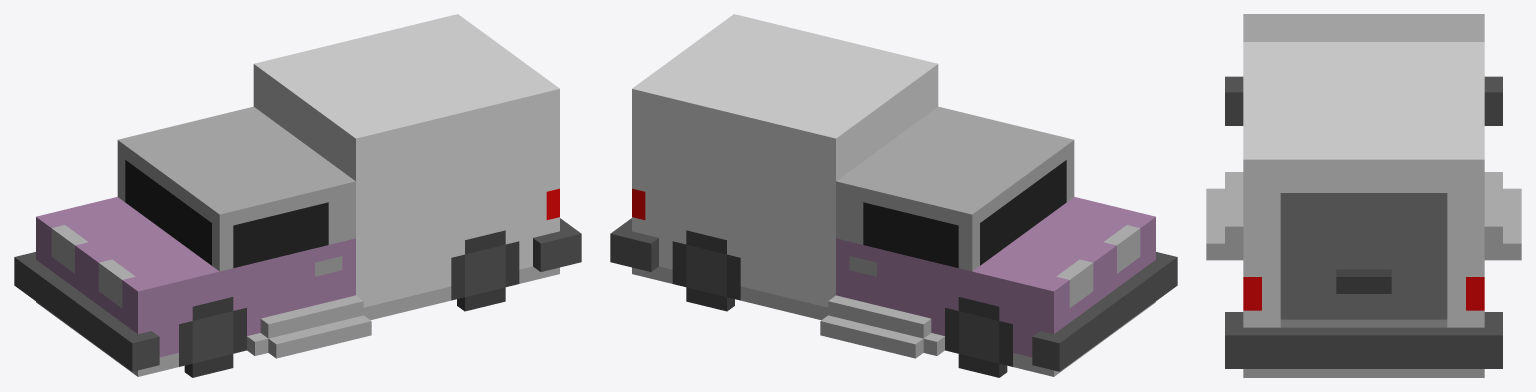
Rendered from truck1.obj.
The picture shows the model from 3 angles, left to right: view 1: azimuth 30°, elevation 25°; view 2: azimuth 150°, elevation 25°; view 3: azimuth 270°, elevation 25°; orthographic projection. The views are drawn at different scales.
Parts seen in each view (by area): view 1: truck1; view 2: truck1; view 3: truck1.
Part boxes in pixels (left/top/right/bottom): truck1: left=14, top=14, right=581, bottom=377; truck1: left=610, top=14, right=1177, bottom=377; truck1: left=1206, top=14, right=1521, bottom=377.
Bounding box in the file's own units: 33 × 14 × 17.
1 material, 1 textured.
